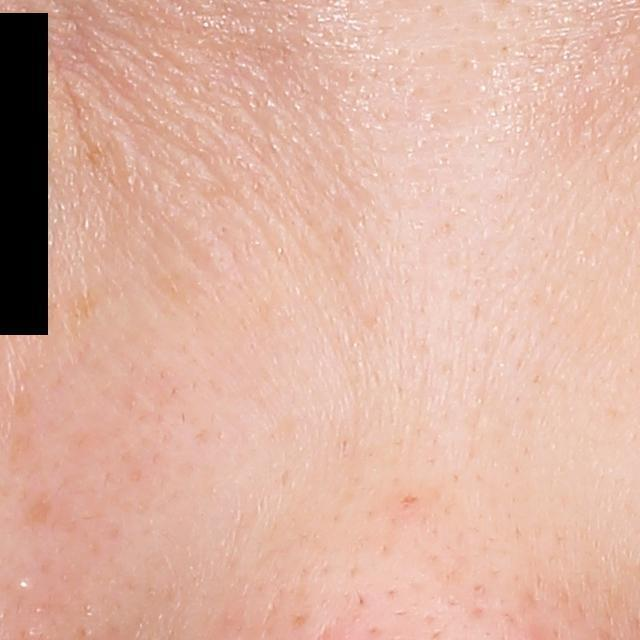melasma: (23, 492, 63, 532)
